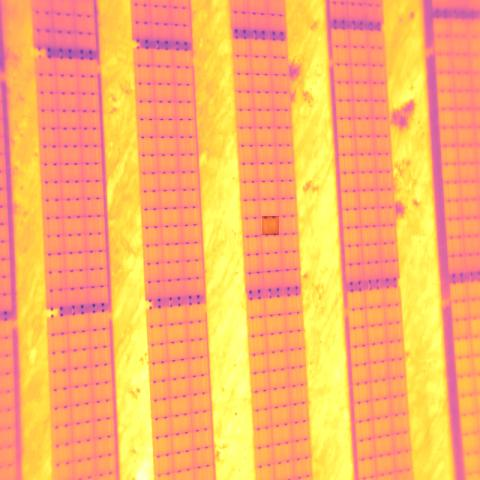fault: (262, 216, 279, 235)
